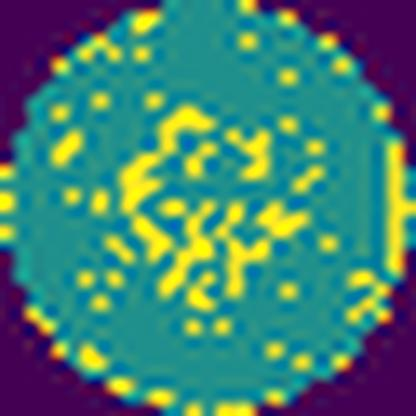Donut: (94, 103, 328, 330)
